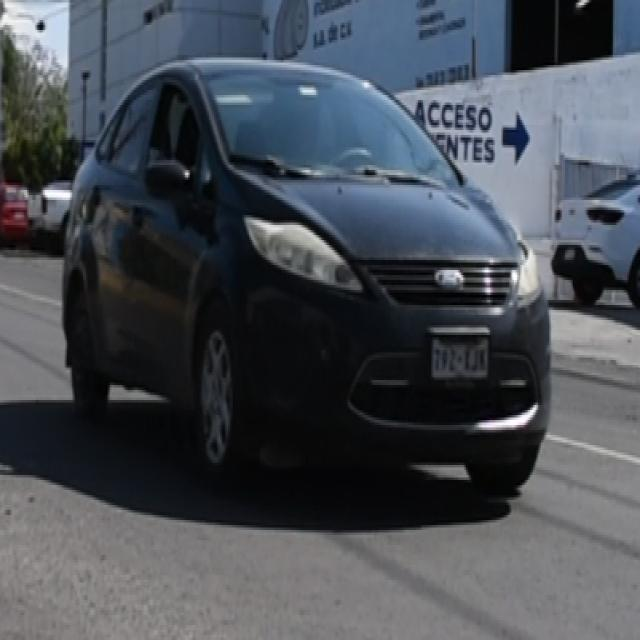placa: (430, 340, 490, 373)
